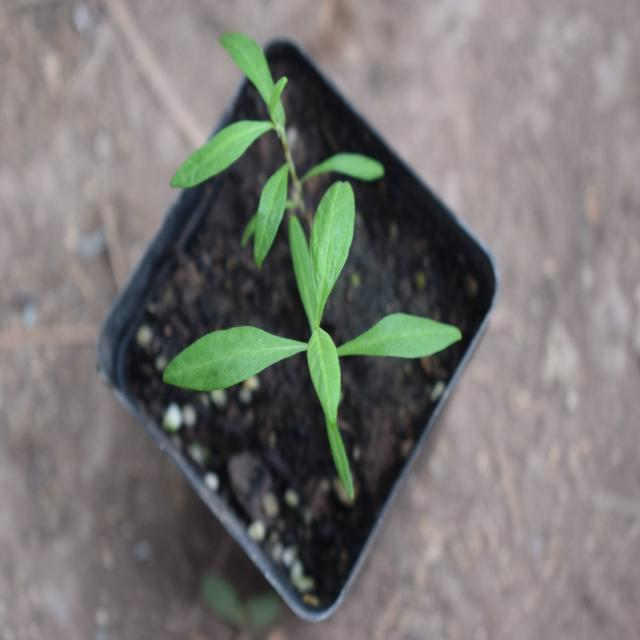white_smart_weed: (171, 182, 456, 492)
